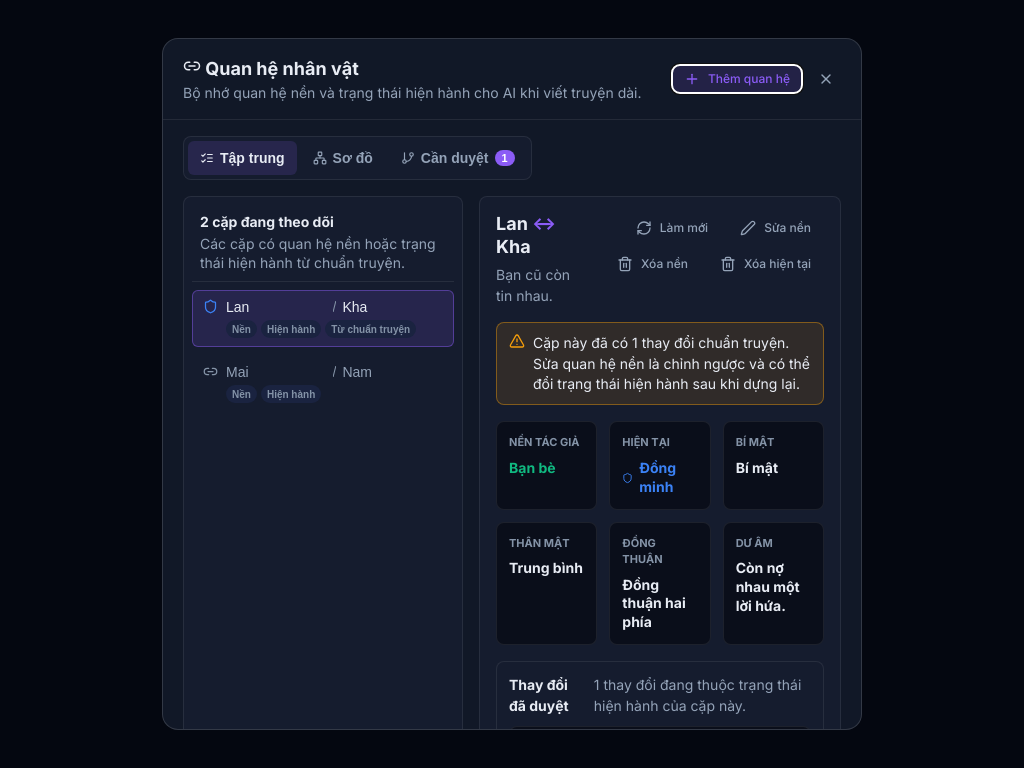
Scenario: phase10 relationship cockpit V1 › shows an approved relationship suggestion in the focus pair list after projection reloads
Click the button "Cần duyệt 1" at x=458, y=158, box [389,141,526,175]
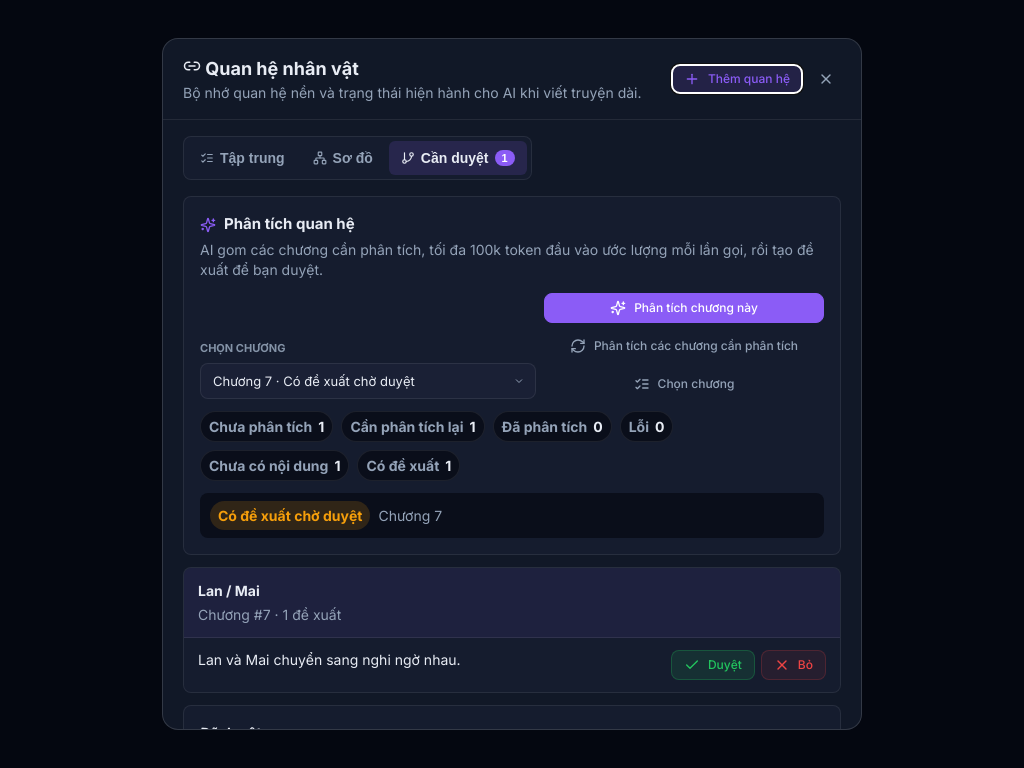
Click the button "Duyệt" at x=713, y=664, box [671,650,755,680]
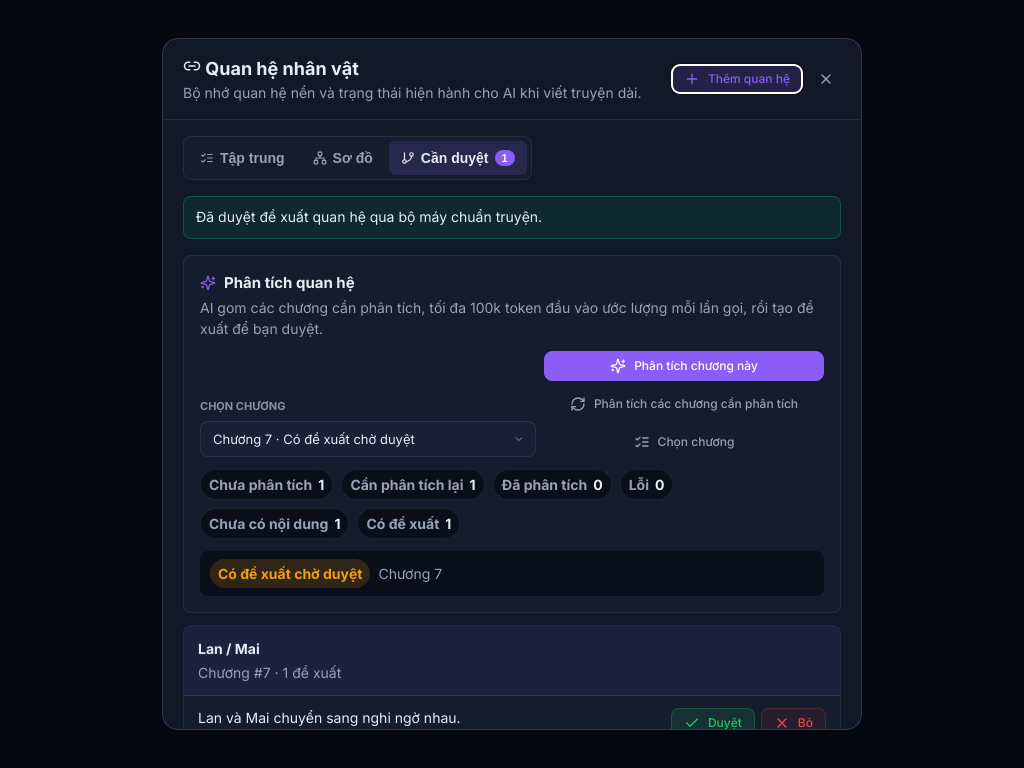
Click the button "Tập trung" at x=242, y=158, box [188,141,296,175]
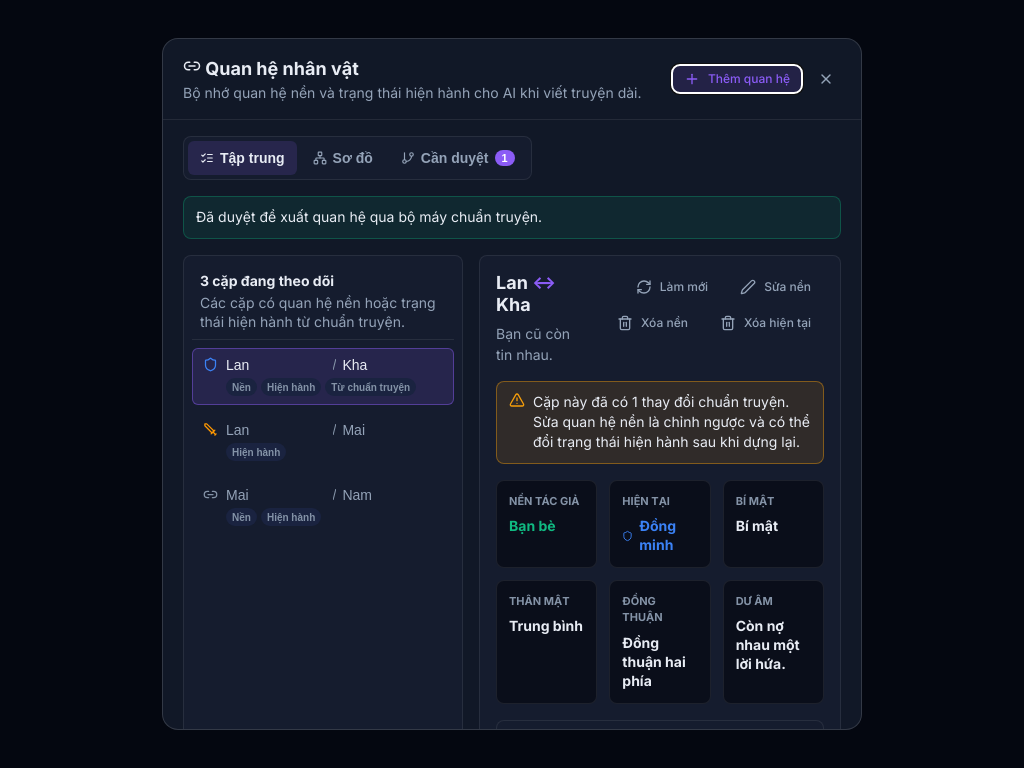
Now the button with class "rel-pair-button" showing "Lan / Mai Hiện hành" is shown, box [192,414,454,470]
